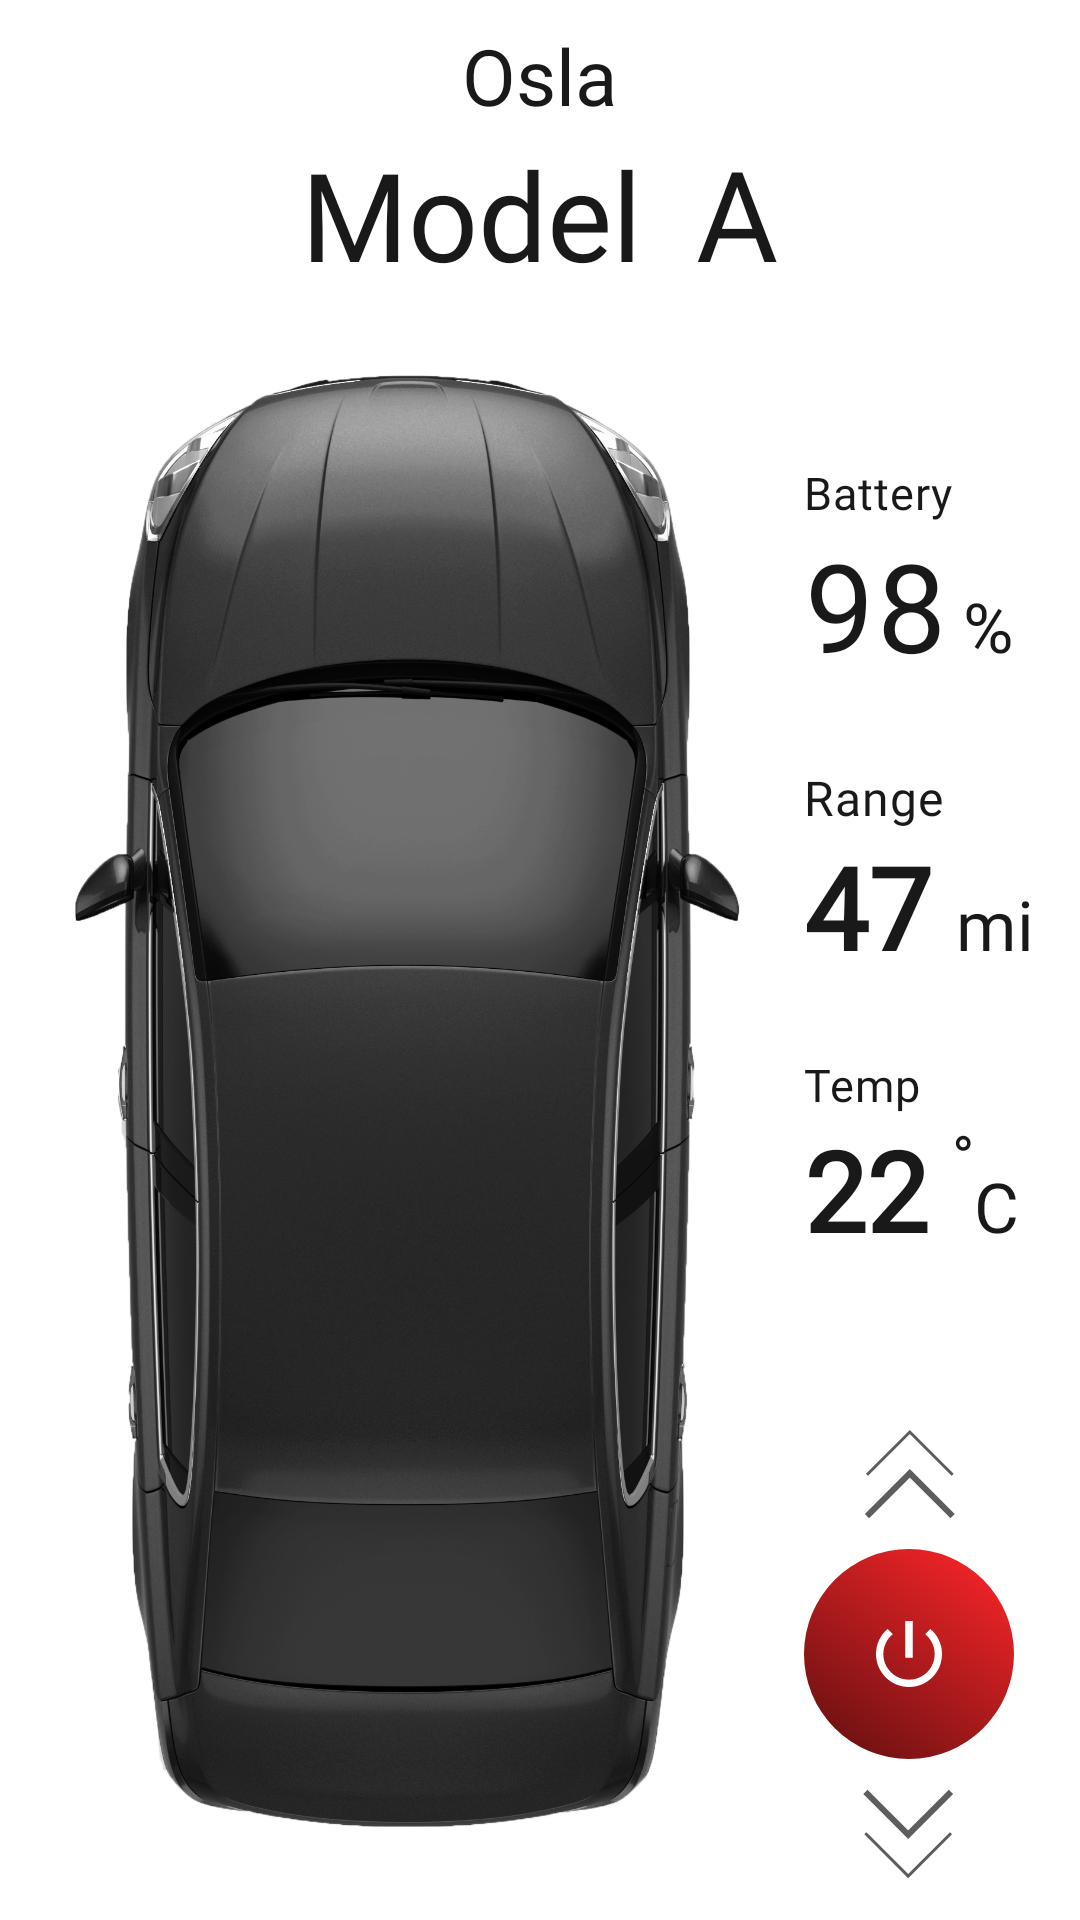

Screen size 1080w x 1920h. Icon name, then its box in pixels as (x1, y1, x2, y2):
arrow down: (863, 1790, 953, 1878)
arrow up: (865, 1430, 955, 1518)
